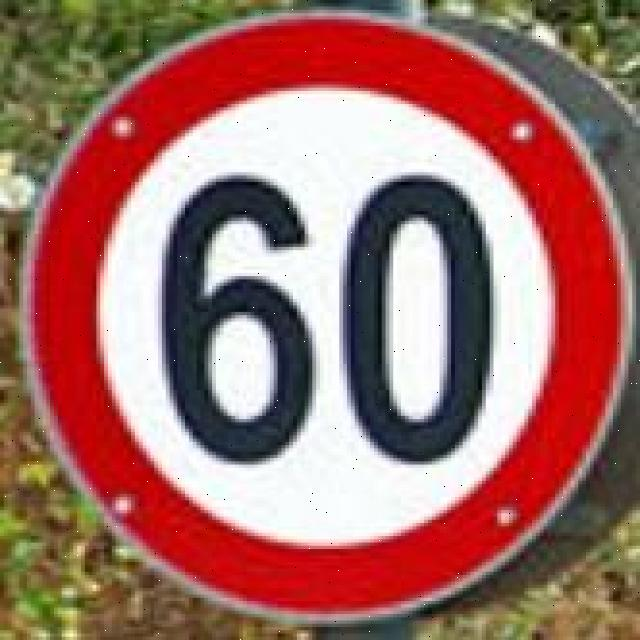speed limit 60: (20, 15, 635, 622)
